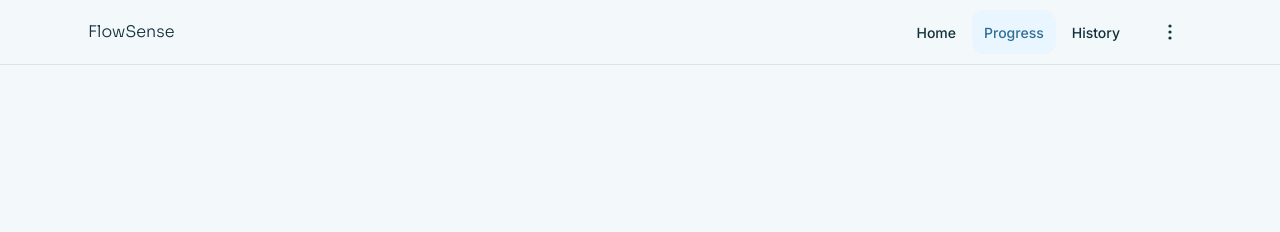
Test case: AppHeader › places Progress in primary navigation and not in the account menu
Click the button named "More options": (1170, 32) [1148, 10, 1192, 54]
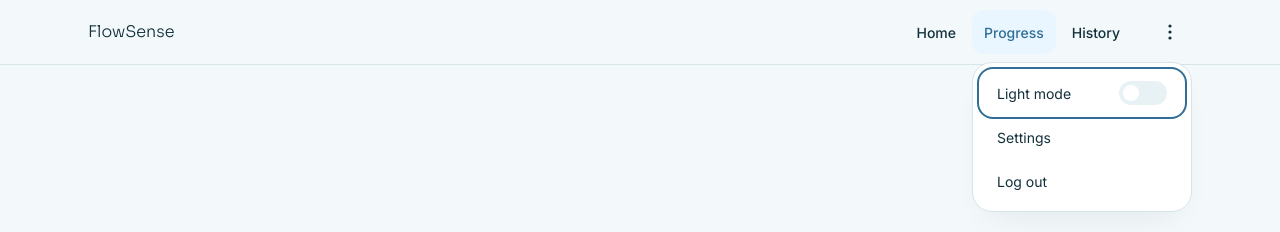
Check: the menu item "Settings" is shown, box [997, 128, 1051, 146]
